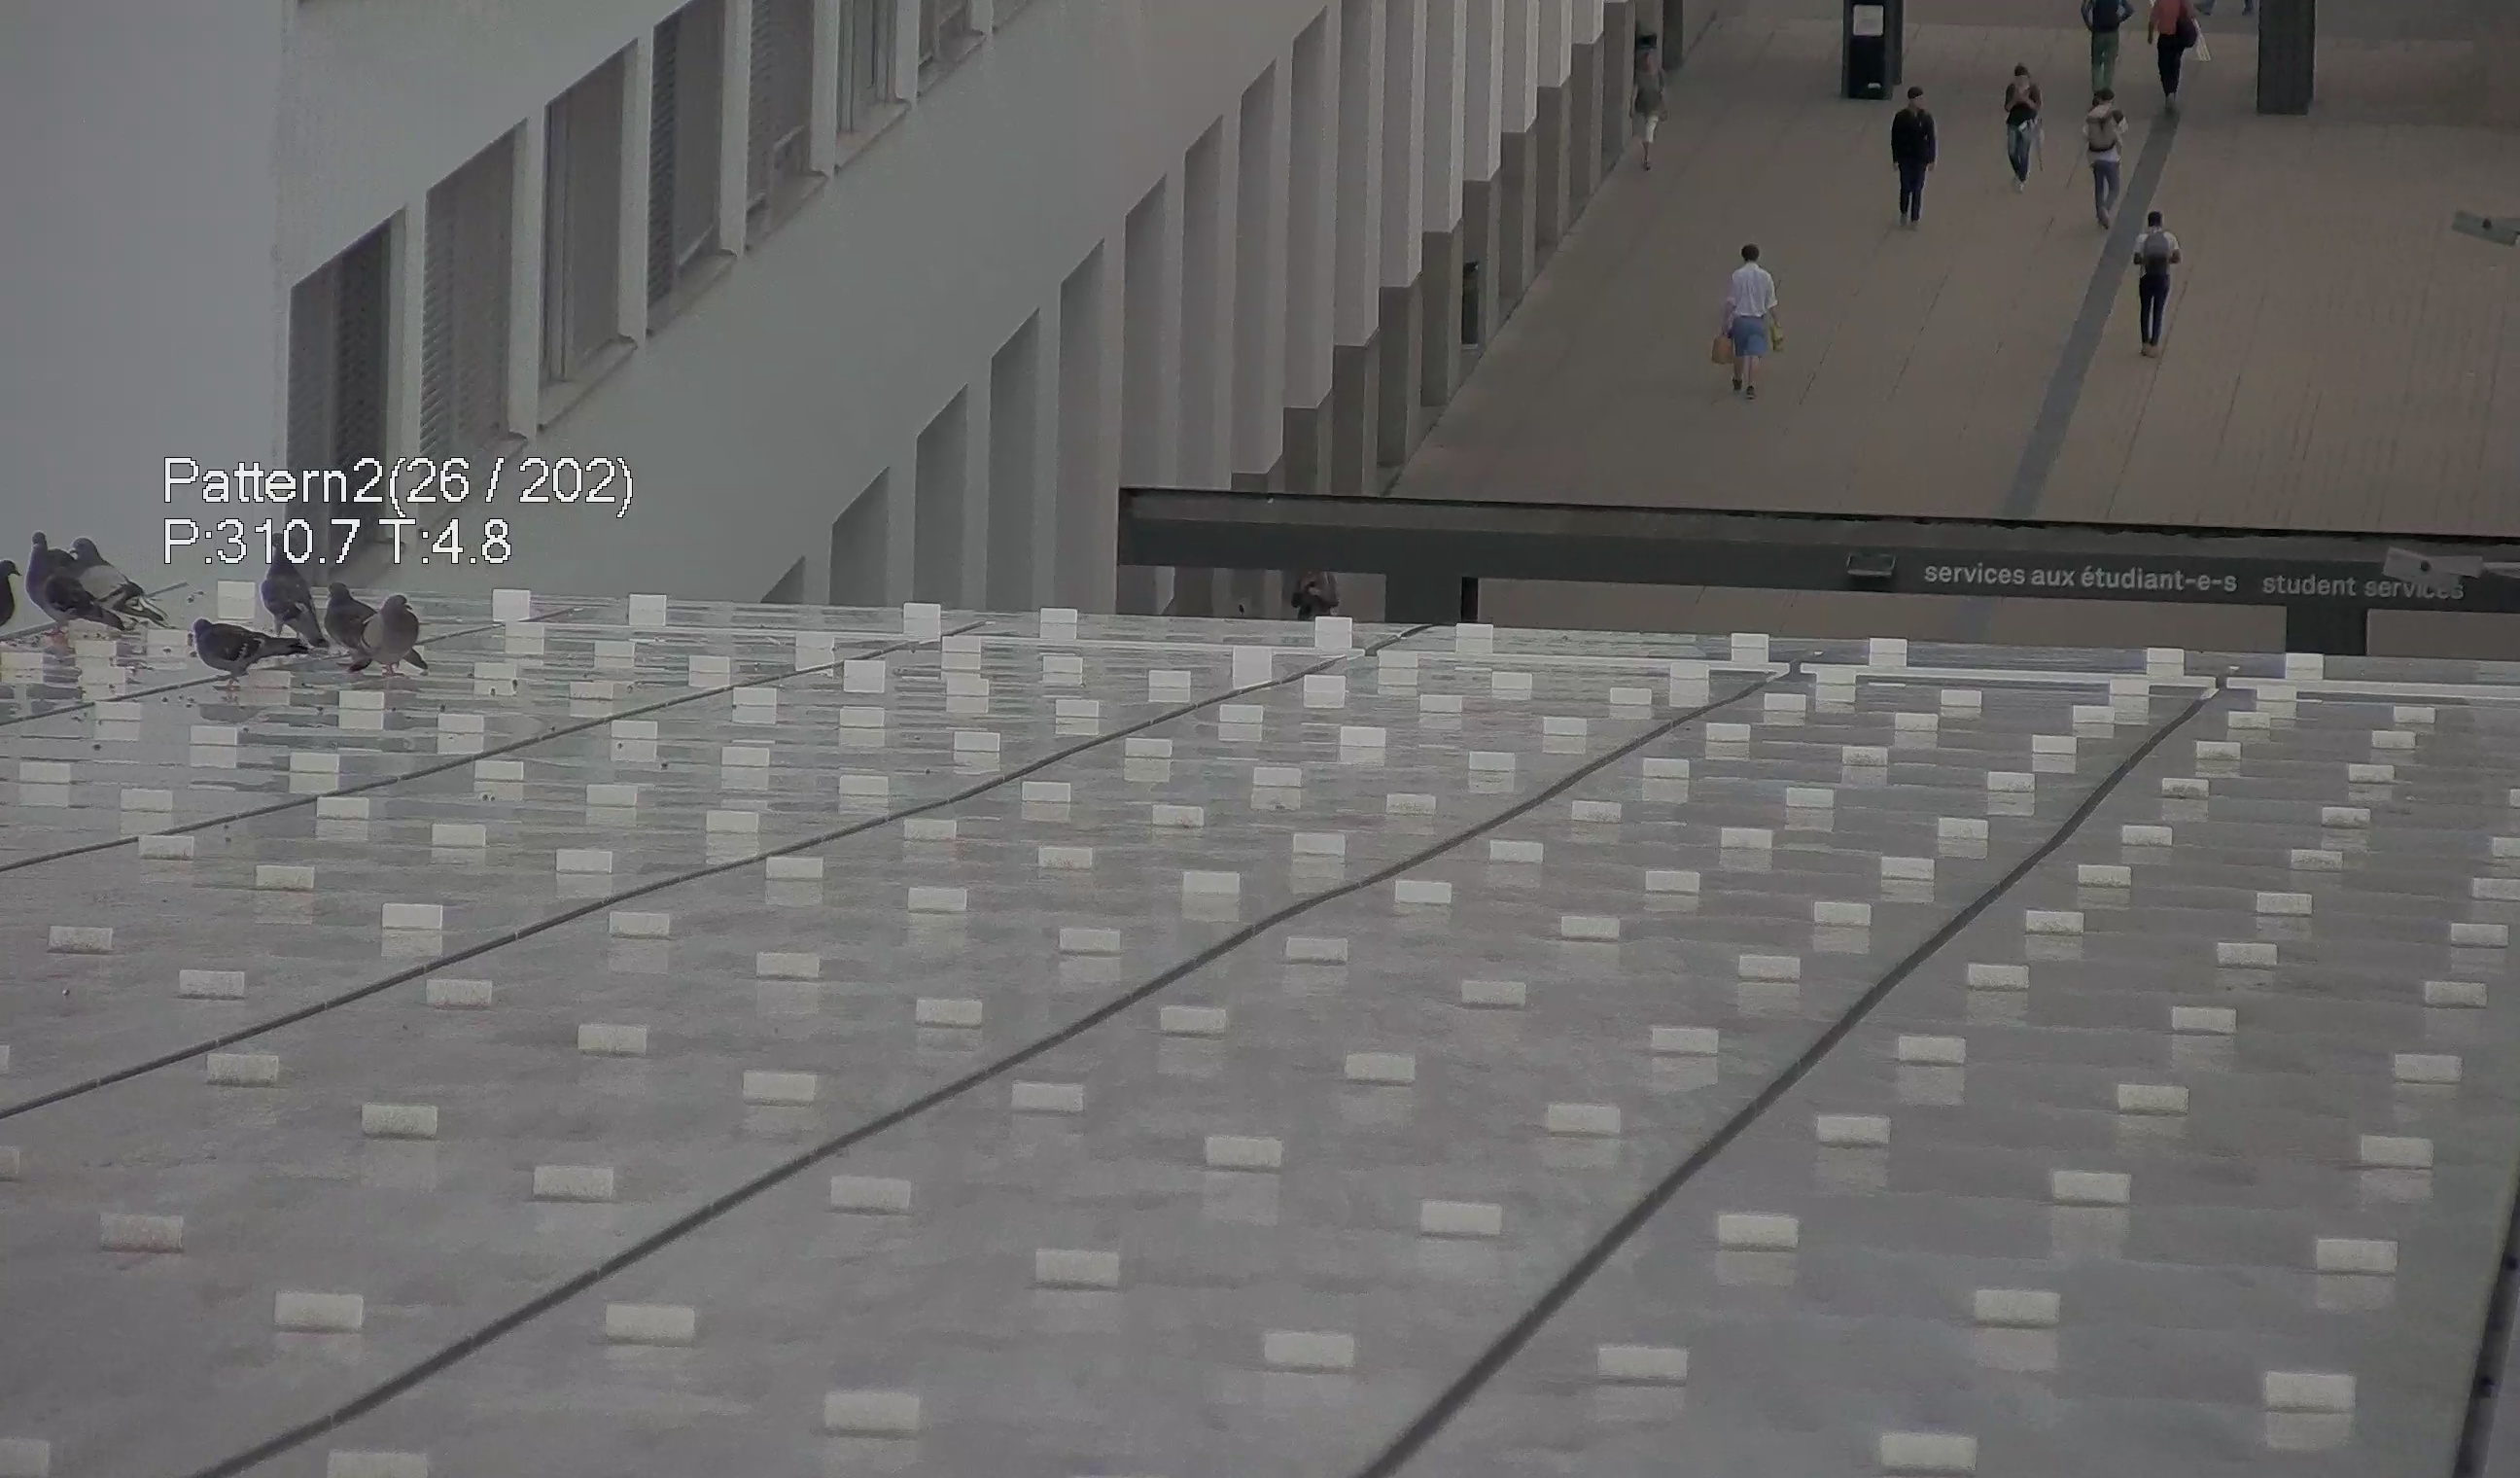Pigeon: (178, 602, 315, 690), (19, 524, 111, 628), (65, 537, 171, 626), (248, 542, 331, 653), (348, 584, 422, 686), (322, 577, 376, 648), (2, 560, 19, 649)
